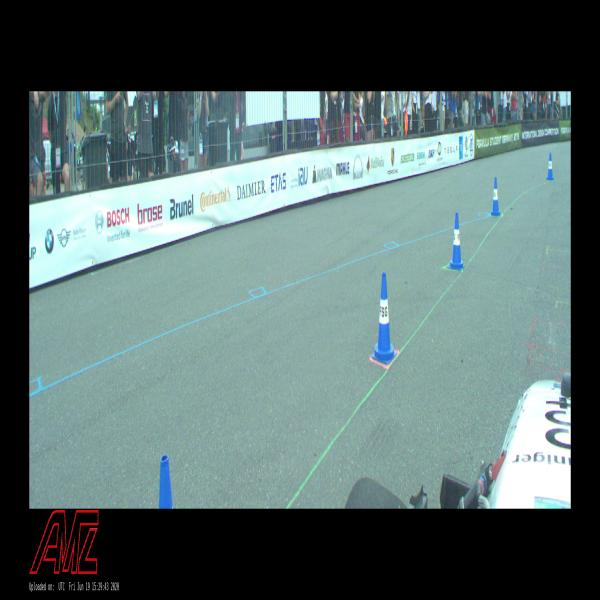blue_cone: (371, 272, 397, 364), (448, 212, 465, 271), (158, 454, 174, 509), (491, 177, 501, 216), (547, 153, 554, 180)
